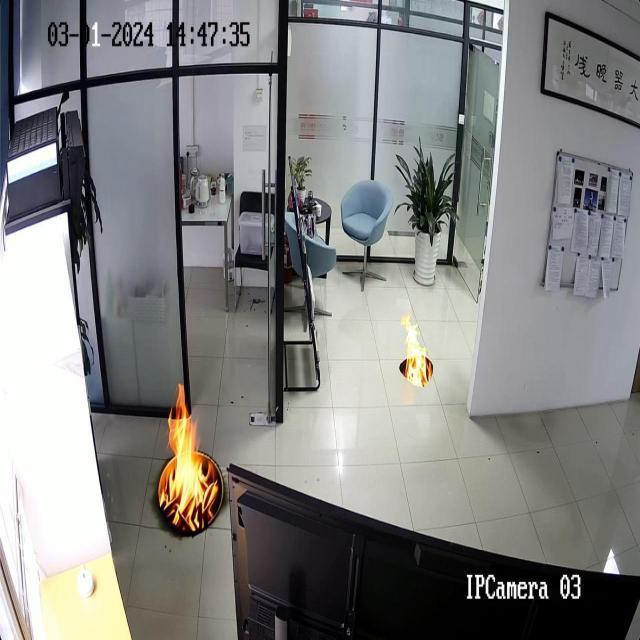smoke: (156, 378, 218, 532), (394, 302, 434, 387)
